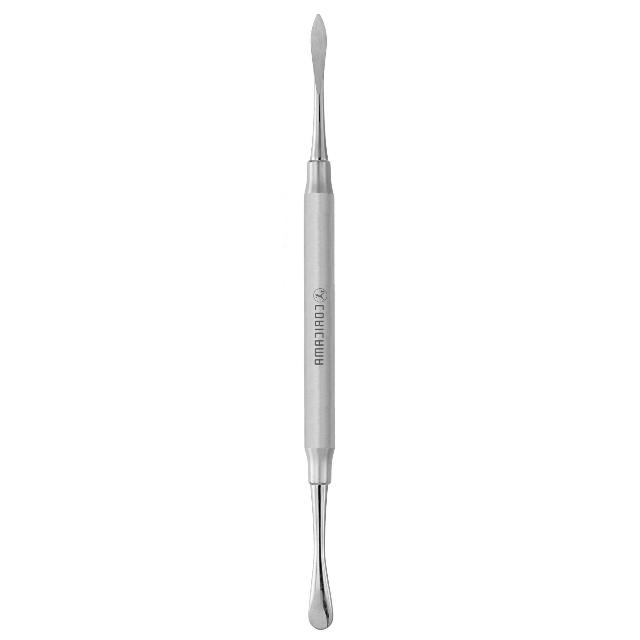elevador: (302, 13, 339, 633)
